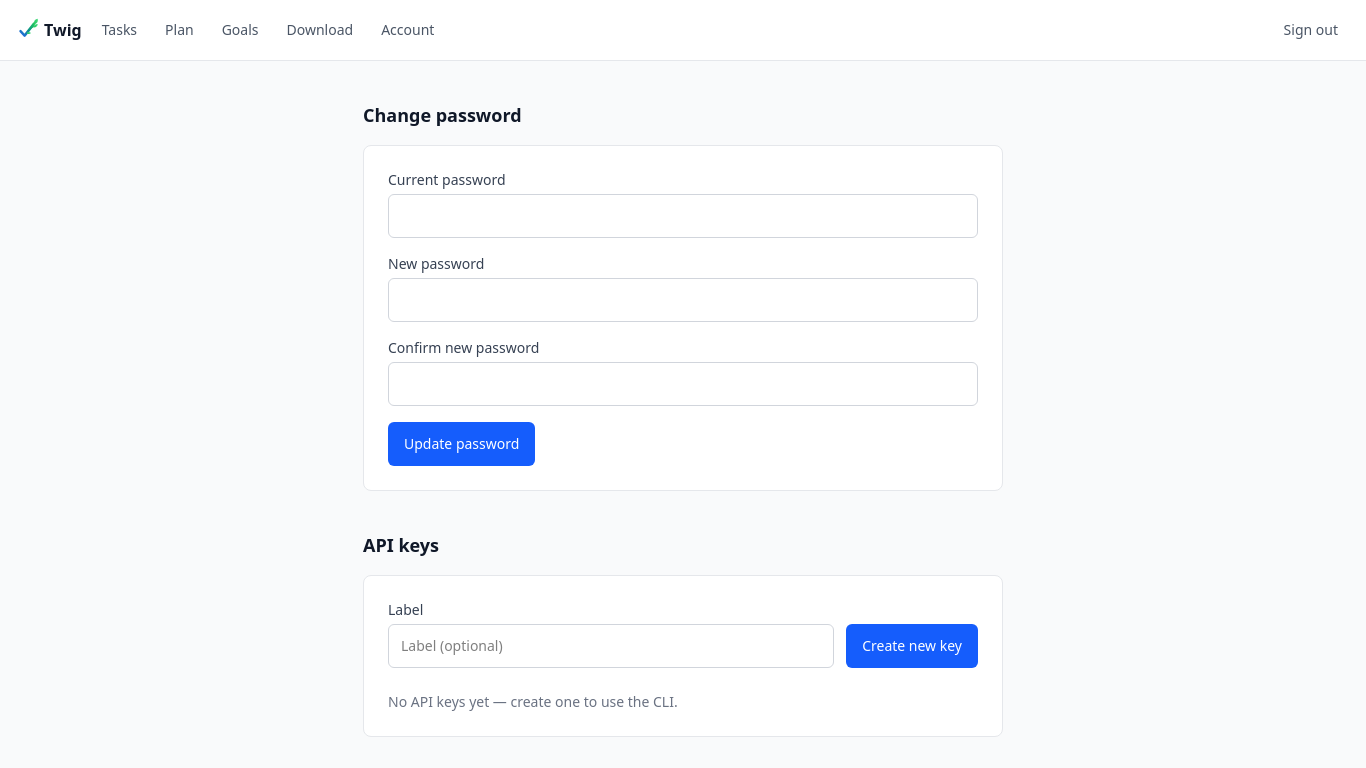
Test: AccountPage — password change (US1) › shows success toast and clears form on happy path
In the password field labelled "Current password": (683, 216) [388,194,978,238], type "oldpass"
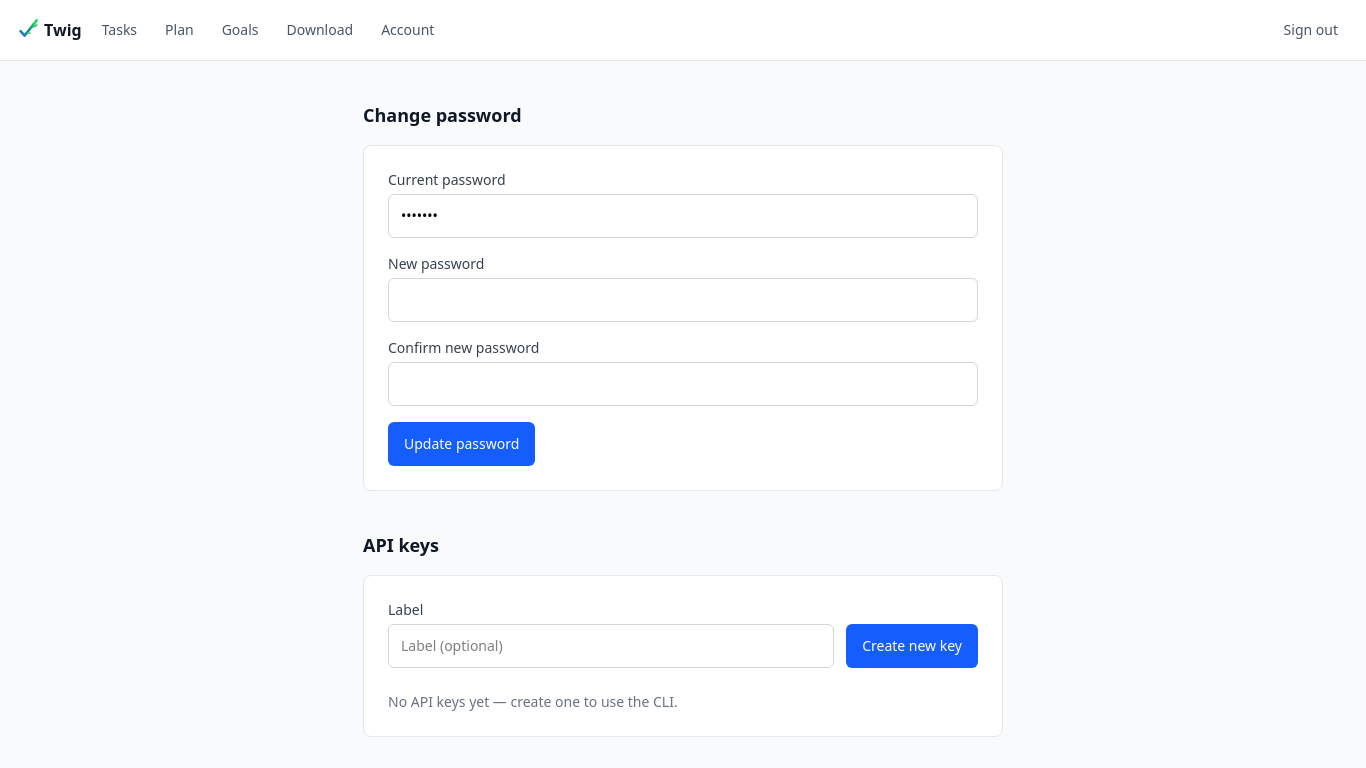
In the password field labelled "New password": (683, 300) [388,278,978,322], type "newpassword123"
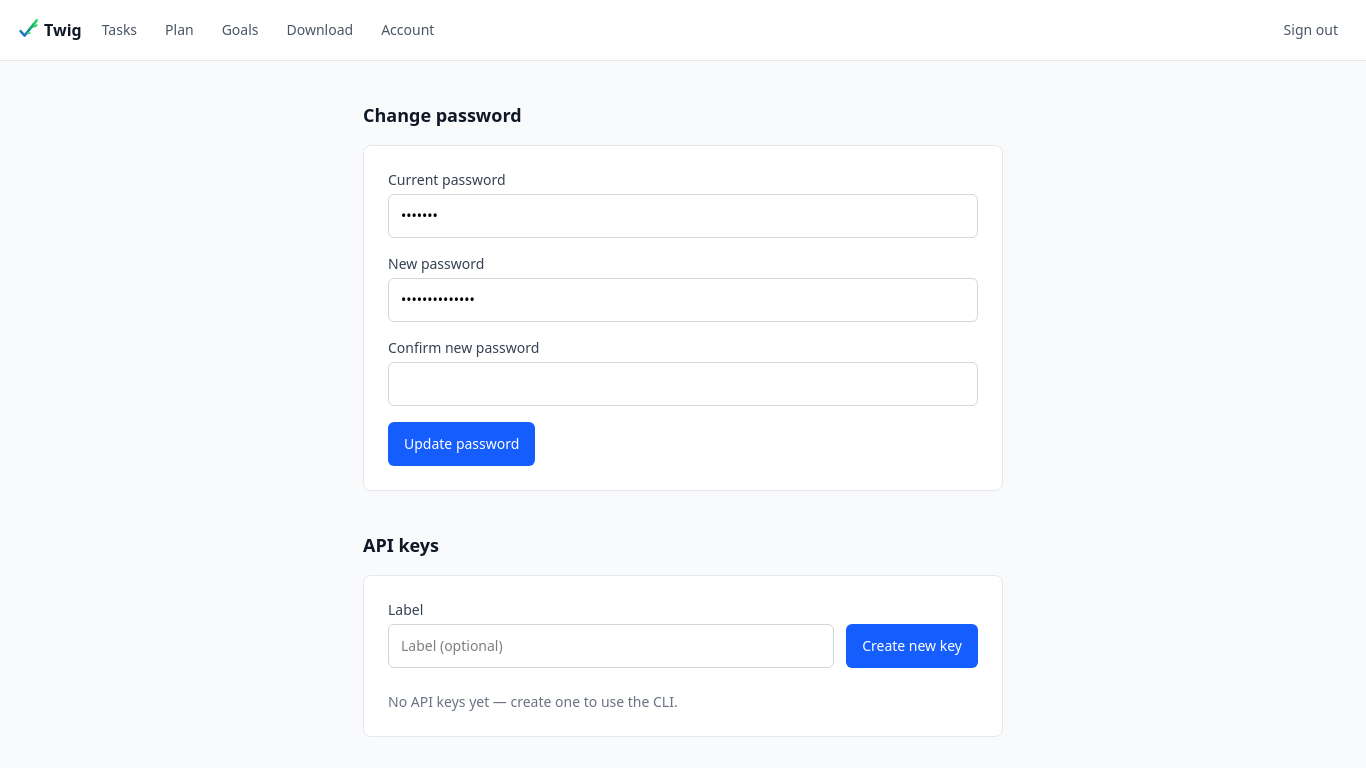
In the password field labelled "Confirm new password": (683, 384) [388,362,978,406], type "newpassword123"
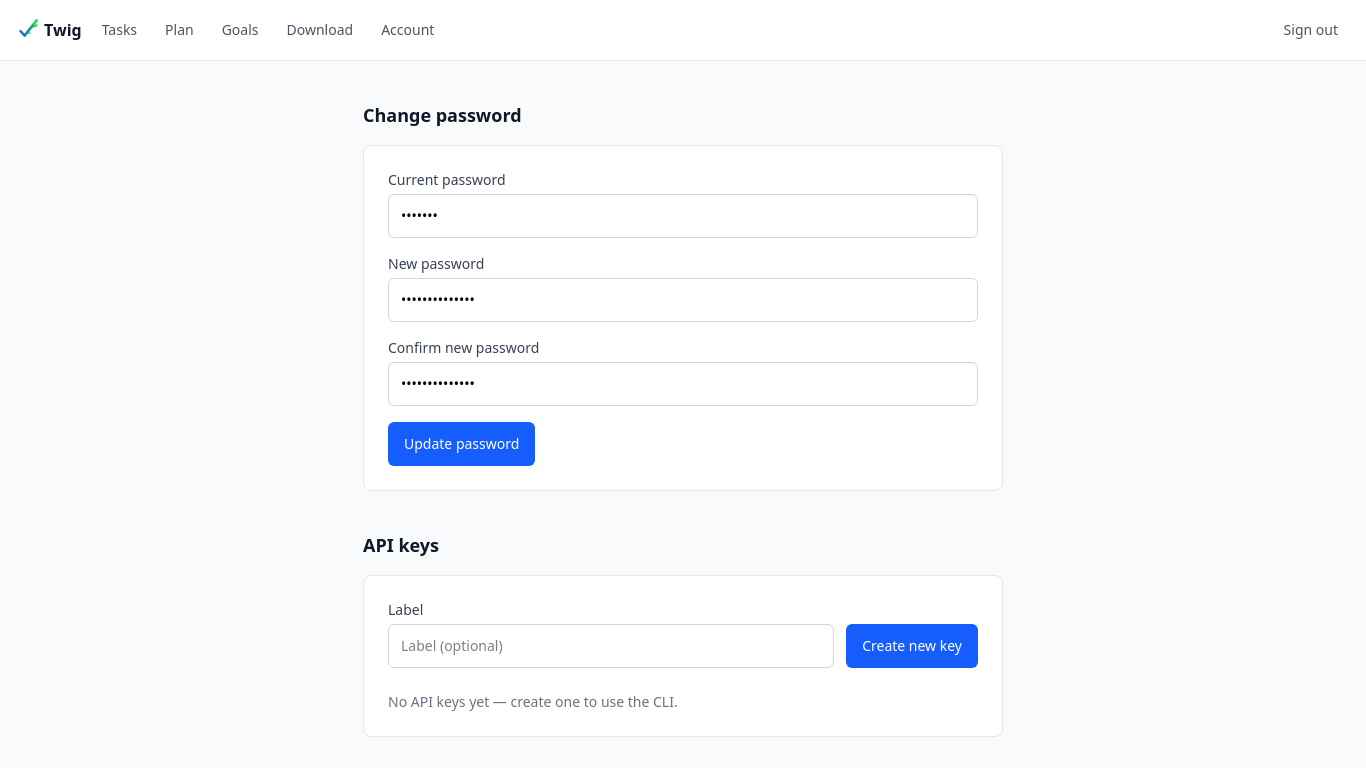
Click the button "Update password": (462, 444) [388,422,535,466]
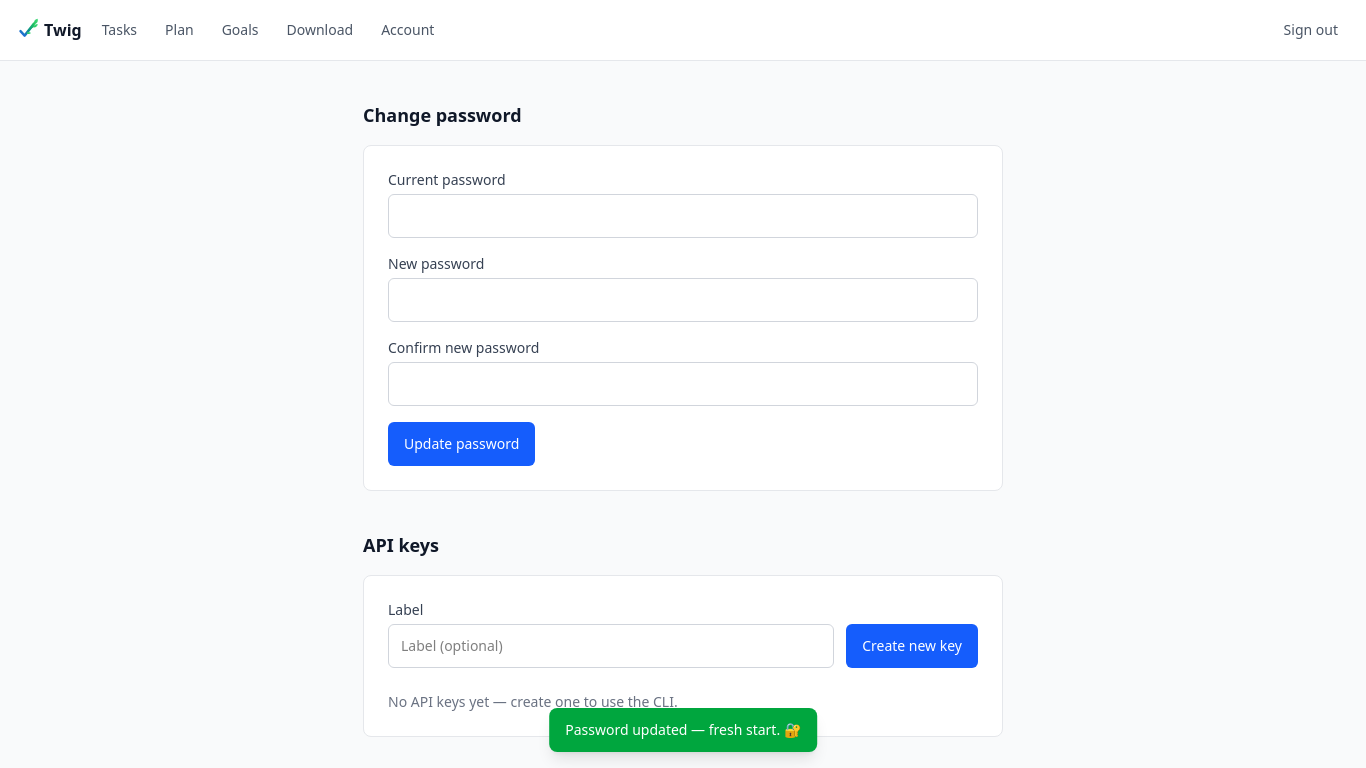
Result: the text "Password updated — fresh start. 🔐" is shown at [549,708,817,752]
